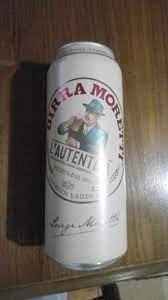metal: (42, 38, 136, 275)
